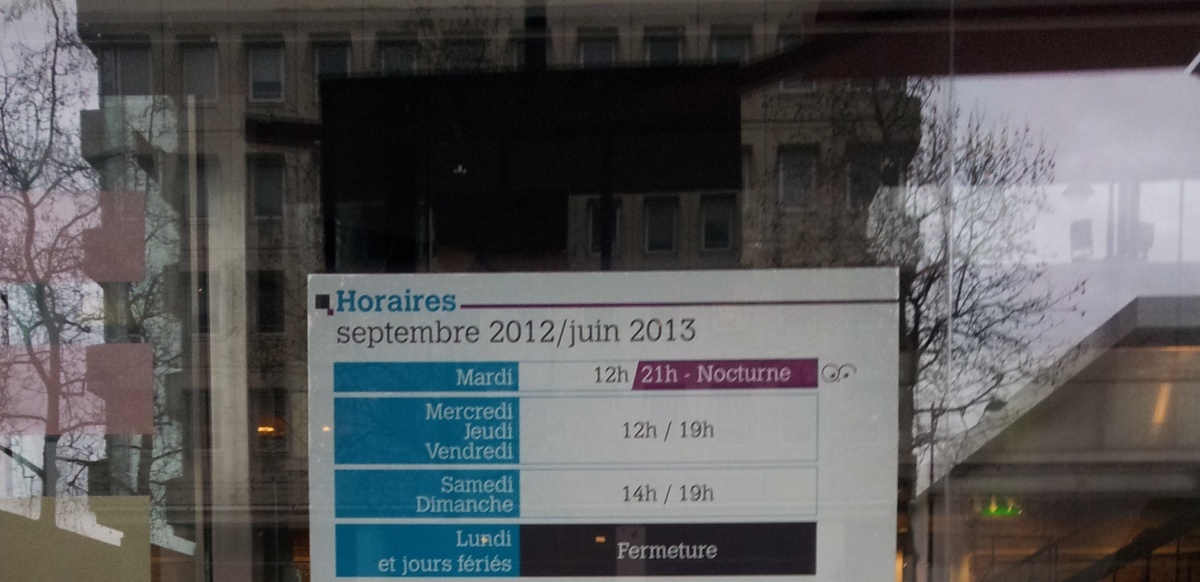text: (337, 317, 352, 351), (353, 317, 368, 351), (369, 317, 384, 351), (385, 317, 400, 351), (401, 317, 416, 351), (417, 317, 432, 351), (433, 317, 448, 351), (449, 317, 464, 351), (465, 317, 480, 351), (497, 317, 512, 349), (513, 317, 528, 349), (529, 317, 544, 349), (545, 317, 560, 349), (561, 317, 576, 349), (577, 317, 592, 349), (593, 317, 608, 349), (609, 317, 622, 349), (641, 316, 656, 343), (657, 316, 672, 343), (673, 316, 688, 343), (337, 287, 352, 314), (353, 287, 368, 314), (369, 287, 384, 314), (385, 287, 400, 314), (401, 287, 416, 314), (417, 287, 432, 314), (433, 287, 448, 314), (497, 551, 513, 574), (401, 554, 416, 577), (417, 554, 432, 577), (433, 554, 448, 577), (465, 551, 480, 574), (481, 551, 496, 574), (689, 418, 704, 440), (465, 420, 480, 441), (481, 420, 496, 441), (497, 420, 512, 441), (449, 474, 464, 495), (465, 474, 480, 495), (481, 474, 496, 495), (497, 474, 512, 495), (625, 539, 640, 560), (641, 539, 656, 560), (657, 539, 672, 560), (673, 539, 688, 560), (689, 539, 704, 560), (625, 483, 640, 504), (641, 483, 656, 504), (433, 440, 448, 460), (449, 440, 464, 460), (465, 440, 480, 460), (481, 440, 496, 460), (497, 440, 512, 460), (689, 483, 704, 503), (625, 420, 640, 440), (641, 420, 656, 440), (593, 364, 608, 384), (609, 364, 624, 384), (641, 365, 656, 385), (657, 365, 672, 385), (705, 364, 720, 384), (721, 364, 736, 384), (737, 364, 752, 384), (753, 364, 768, 384), (769, 364, 784, 384), (689, 316, 700, 343), (705, 539, 719, 560), (417, 495, 432, 514), (433, 495, 448, 514), (449, 495, 464, 514), (465, 495, 480, 514), (481, 495, 496, 514), (497, 495, 512, 514), (465, 529, 480, 548), (481, 529, 496, 548), (497, 529, 512, 548), (433, 402, 448, 421), (449, 402, 464, 421), (465, 402, 480, 421), (481, 402, 496, 421), (497, 402, 512, 421), (663, 416, 672, 447), (465, 368, 480, 386), (481, 368, 496, 386), (497, 368, 512, 386), (488, 317, 496, 349), (385, 556, 399, 574), (663, 479, 672, 507), (631, 316, 640, 343), (705, 418, 716, 440), (449, 287, 457, 314), (678, 483, 688, 503), (705, 483, 715, 503), (680, 418, 688, 440), (455, 368, 464, 386), (785, 364, 793, 384), (449, 554, 455, 577), (673, 416, 677, 447), (426, 440, 432, 460), (673, 365, 679, 385), (459, 551, 464, 574), (458, 529, 464, 548), (426, 402, 432, 421), (378, 556, 384, 574), (443, 474, 448, 495), (619, 539, 624, 560), (625, 364, 630, 384), (699, 364, 704, 384), (513, 474, 516, 495), (513, 495, 516, 514), (683, 369, 688, 379), (689, 369, 694, 379), (622, 483, 624, 504), (657, 483, 659, 504), (513, 440, 515, 460), (657, 420, 659, 440), (513, 402, 515, 421), (513, 368, 515, 386), (481, 317, 482, 351), (673, 479, 674, 507), (513, 420, 514, 441), (623, 420, 624, 440), (415, 495, 416, 514), (513, 529, 514, 548)
